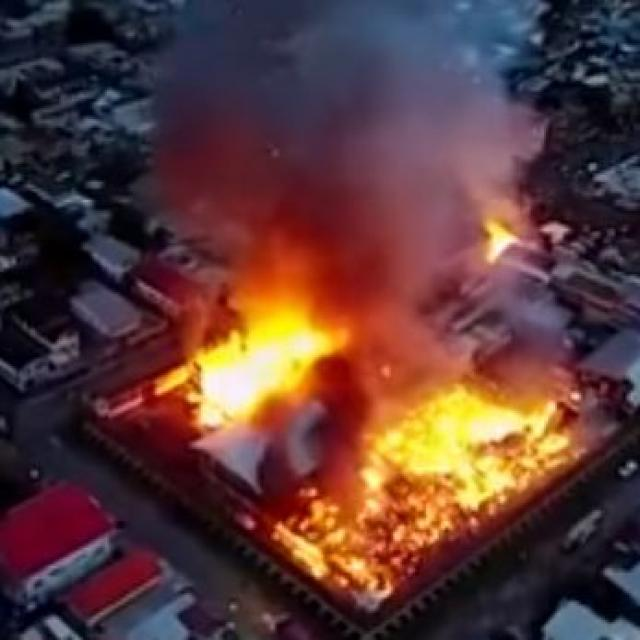Smoke: (149, 0, 524, 404)
